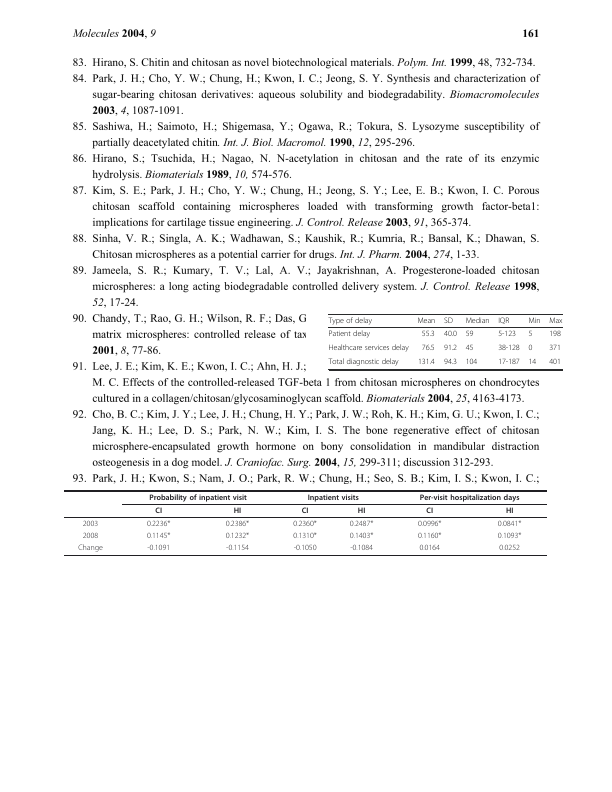borderless: (64, 489, 547, 555), (327, 313, 562, 369)
cell: (419, 493, 520, 502), (148, 493, 248, 502), (328, 344, 410, 354), (328, 358, 400, 368), (307, 493, 360, 502), (328, 330, 371, 340), (328, 317, 373, 326), (77, 543, 104, 553), (292, 519, 318, 529), (292, 531, 318, 541), (146, 519, 171, 529), (225, 519, 250, 529), (349, 519, 374, 529), (417, 519, 442, 529), (497, 519, 522, 529), (146, 531, 171, 541), (225, 531, 250, 541), (349, 531, 374, 541), (417, 531, 442, 541), (497, 531, 522, 541), (146, 543, 171, 553), (225, 543, 250, 553), (349, 543, 374, 553), (497, 344, 521, 354), (497, 358, 521, 368), (293, 543, 317, 553), (418, 543, 441, 553), (498, 543, 521, 553), (465, 317, 490, 326), (497, 330, 517, 340), (417, 358, 436, 368), (416, 317, 436, 326), (82, 519, 99, 529), (82, 531, 99, 541), (421, 330, 436, 340), (443, 330, 458, 340), (421, 344, 436, 354), (443, 344, 458, 354), (443, 358, 458, 368), (548, 330, 562, 340), (548, 344, 562, 354), (548, 358, 562, 368), (548, 317, 563, 326), (465, 358, 478, 368), (527, 317, 541, 326), (497, 317, 510, 326), (527, 358, 537, 368), (443, 317, 454, 326), (465, 330, 474, 340), (465, 344, 474, 354), (154, 506, 163, 516), (233, 506, 242, 516), (357, 506, 366, 516), (425, 506, 434, 516), (505, 506, 514, 516), (301, 506, 309, 516), (527, 330, 533, 340), (527, 344, 533, 354)
